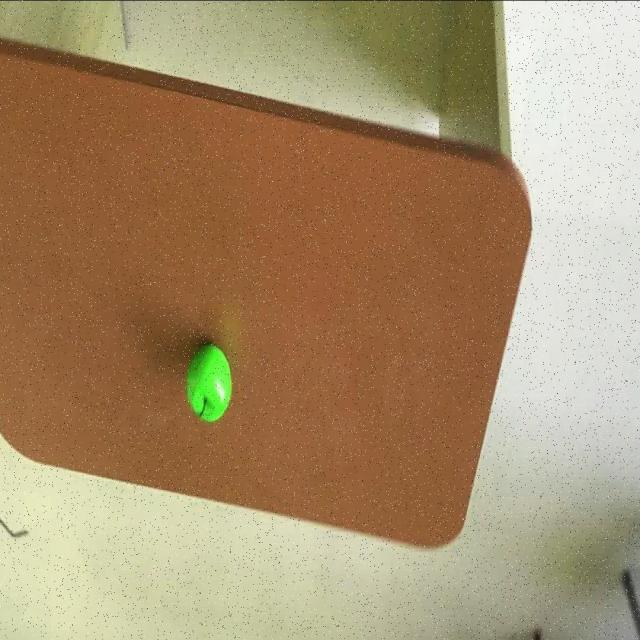Apple: (184, 341, 232, 422)
